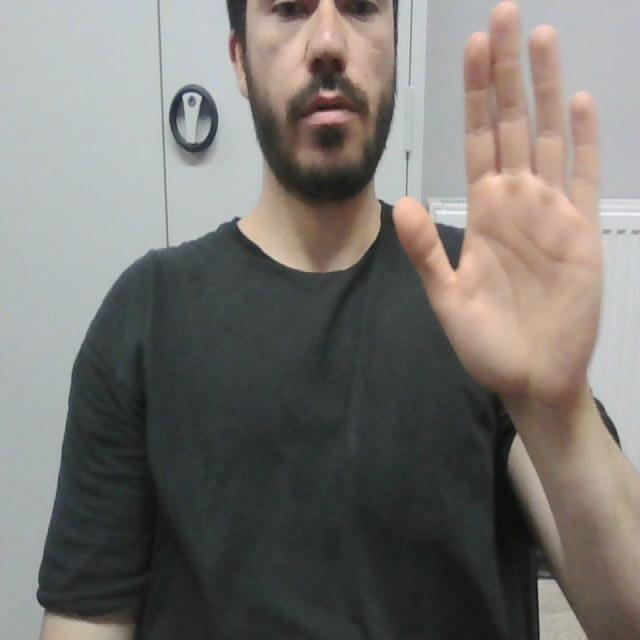Dur: (385, 14, 613, 424)
